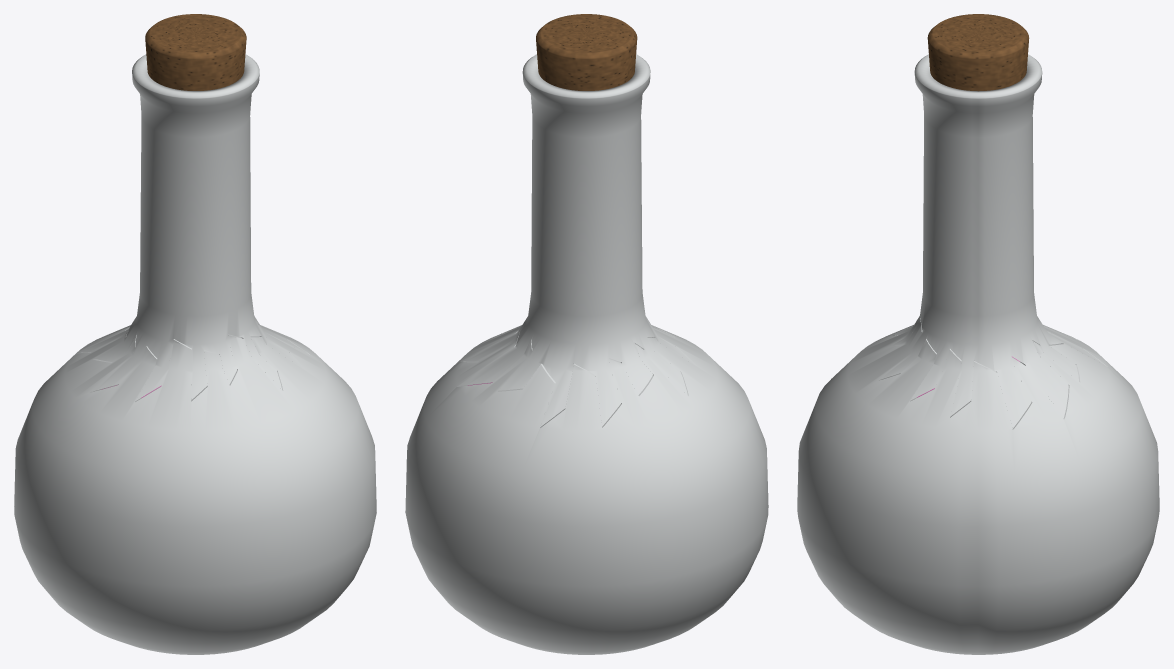
File: bottle_roundflask_broken.glb
3 renders of one model, left to right at view 1: azimuth 30°, elevation 25°; view 2: azimuth 150°, elevation 25°; view 3: azimuth 270°, elevation 25°, orthographic.
Visible parts, largest first — view 1: Glass.001, Neck, Cap; view 2: Glass.001, Neck, Cap; view 3: Glass.001, Neck, Cap.
Boxes of the visible parts, left/top/right/bottom form: Glass.001: left=14, top=324, right=376, bottom=654; Neck: left=79, top=54, right=308, bottom=400; Cap: left=145, top=14, right=246, bottom=90; Glass.001: left=405, top=316, right=768, bottom=654; Neck: left=458, top=54, right=694, bottom=426; Cap: left=536, top=14, right=637, bottom=90; Glass.001: left=797, top=318, right=1159, bottom=654; Neck: left=879, top=54, right=1106, bottom=428; Cap: left=927, top=14, right=1029, bottom=91.
Bounding box in the file's own units: 0.0859 × 0.156 × 0.0858.
Materials: 3 (1 with a texture image).
